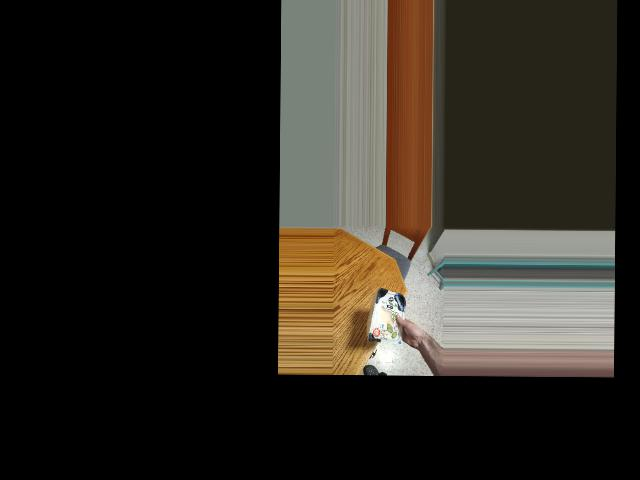cheese: (374, 286, 408, 347)
